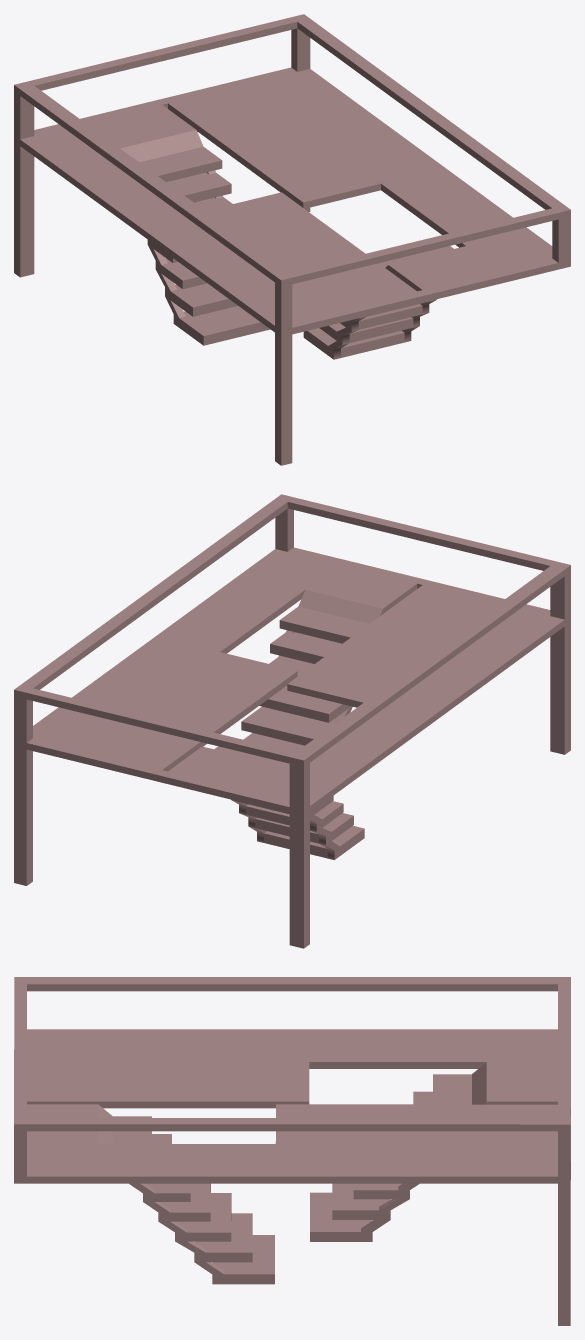
File: Container_Stairs_2.fbx
3 renders of one model, top to bottom at view 1: azimuth 30°, elevation 25°; view 2: azimuth 150°, elevation 25°; view 3: azimuth 270°, elevation 25°, orthographic. The views are drawn at different scales.
Visible parts, largest first — view 1: pasted__pasted___pCube45; view 2: pasted__pasted___pCube45; view 3: pasted__pasted___pCube45.
Part boxes in pixels (x1,y1,x2,y2): pasted__pasted___pCube45: (14, 14, 570, 465); pasted__pasted___pCube45: (14, 494, 570, 948); pasted__pasted___pCube45: (14, 977, 570, 1325).
Bounding box in the file's own units: 5.68 × 3.62 × 9.06.
